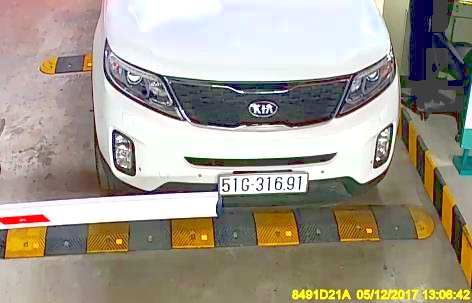plate: (215, 173, 309, 195)
